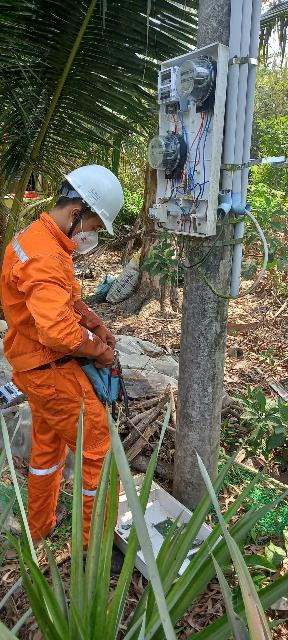gloves: (61, 316, 122, 371), (70, 300, 129, 353)
helmet: (52, 143, 143, 235)
shoes: (37, 498, 74, 540)
